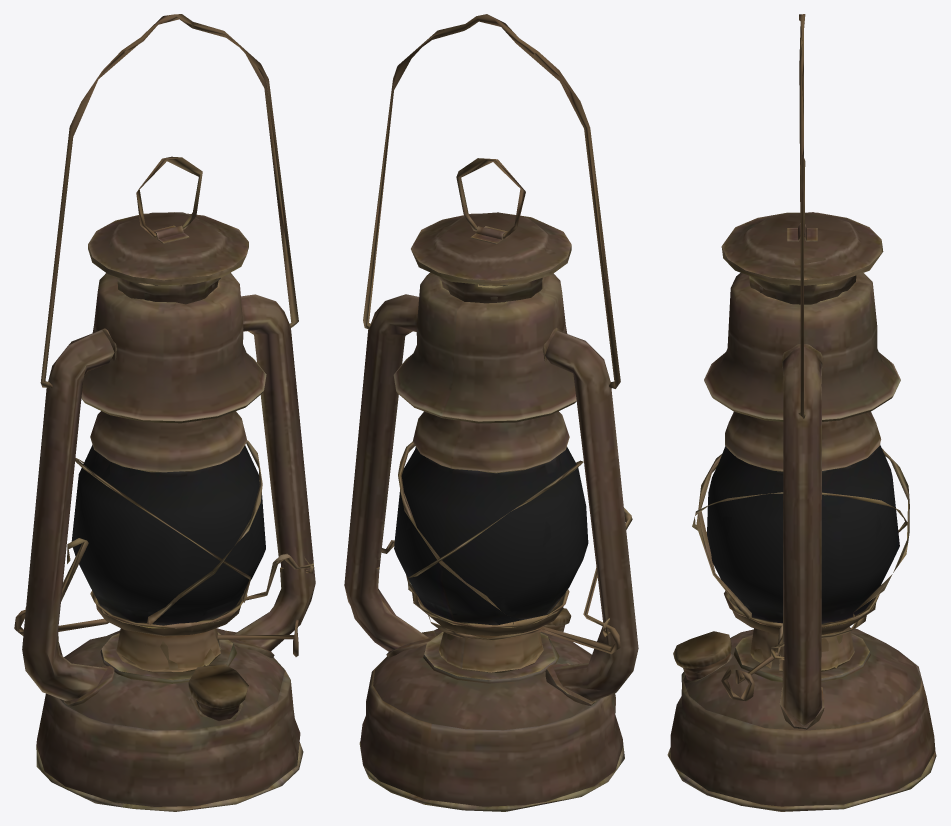
The model's file is Lantern_01_1k_lo.glb.
The picture shows the model from 3 angles, left to right: view 1: azimuth 30°, elevation 25°; view 2: azimuth 150°, elevation 25°; view 3: azimuth 270°, elevation 25°; orthographic projection.
Visible parts, largest first — view 1: Lantern_01, Lantern_01_glass; view 2: Lantern_01, Lantern_01_glass; view 3: Lantern_01, Lantern_01_glass.
Part boxes in pixels (left/top/right/bottom): Lantern_01: left=14, top=14, right=315, bottom=811; Lantern_01_glass: left=71, top=445, right=265, bottom=625; Lantern_01: left=344, top=14, right=638, bottom=811; Lantern_01_glass: left=394, top=446, right=588, bottom=624; Lantern_01: left=667, top=14, right=936, bottom=811; Lantern_01_glass: left=707, top=444, right=899, bottom=623.
Bounding box in the file's own units: 0.1219 × 0.2938 × 0.0967.
Materials: 2 (2 with a texture image).
